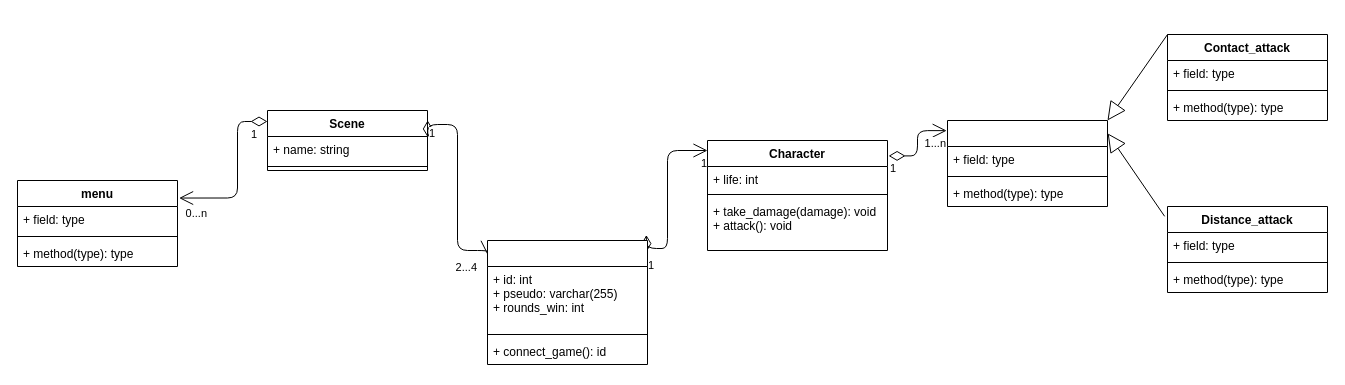
The diagram is 1345 pixels wide and 385 high, and some of its shapes have lost their labels. Here are the shapes that lost their labels. From the top down, the box of each, then its label:
(946, 120, 1108, 206): Attack
(486, 240, 648, 364): Player
